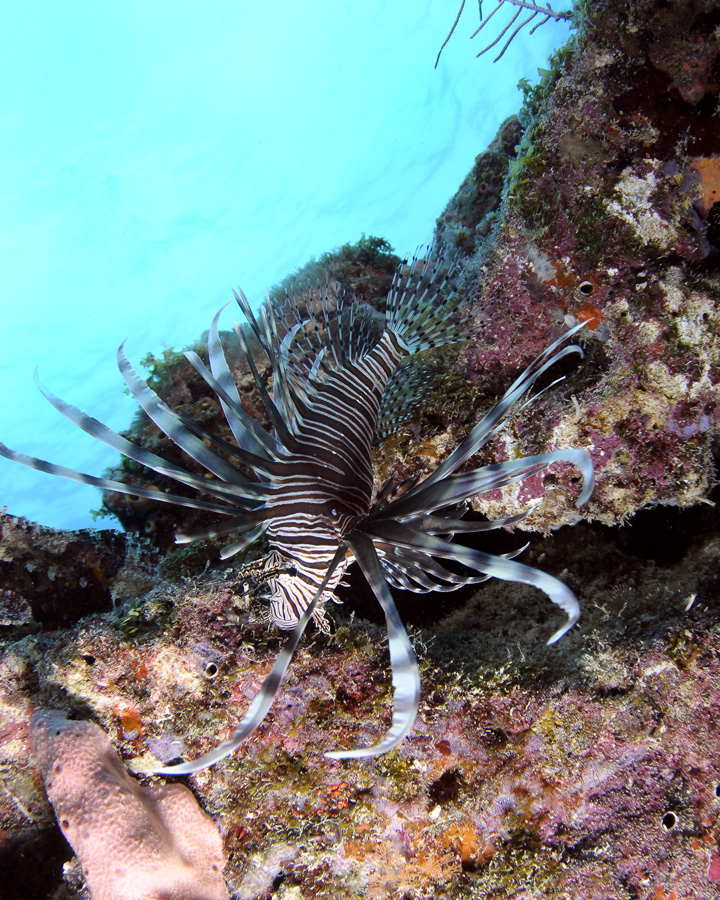Pterois_volitans: (34, 246, 688, 795)
